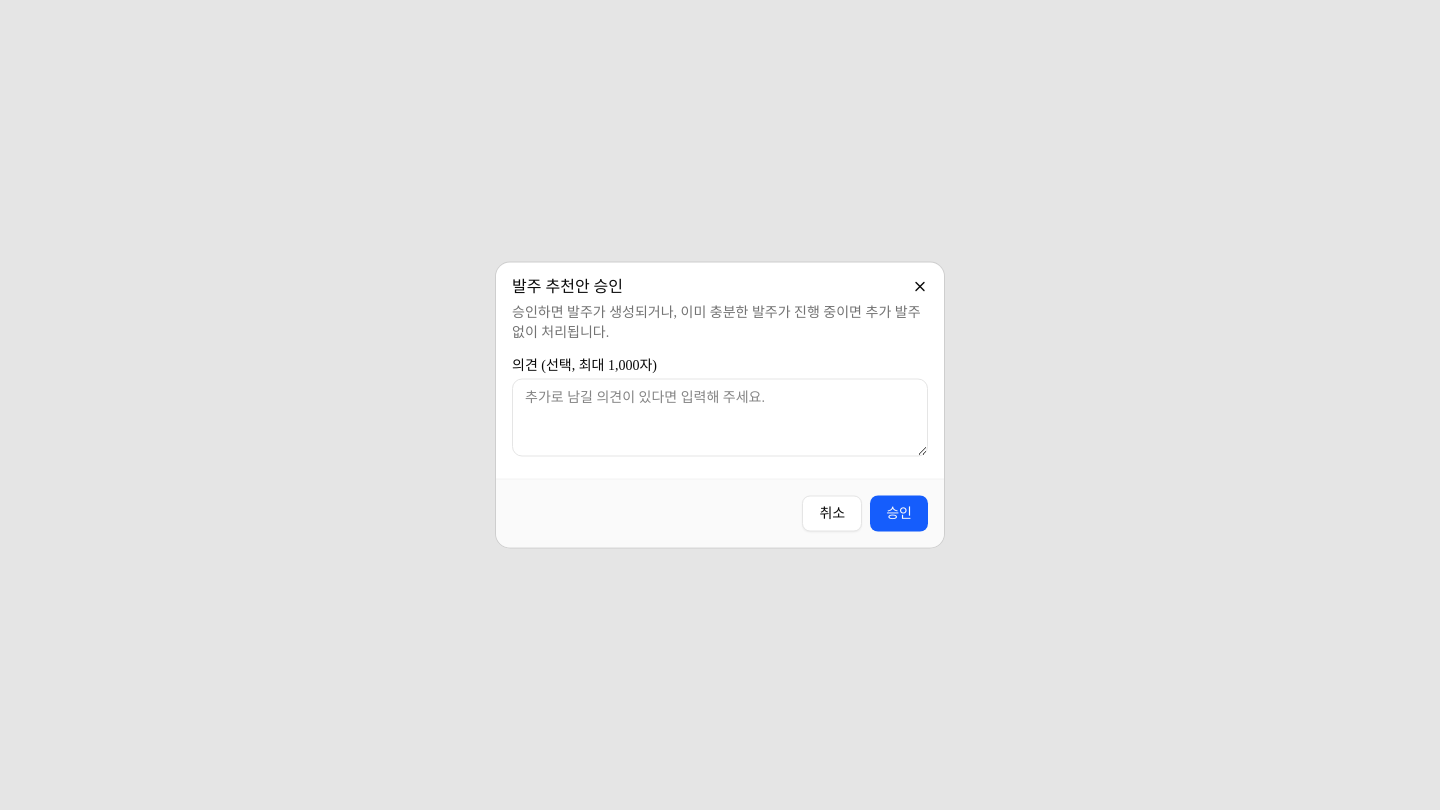
Test case: RestockDecisionConfirmDialog › 실패하면 인라인 에러만 표시하고 결과 안내 화면으로 전환되지 않는다
Click the button "승인".
click(899, 514)  # box [870,496,928,532]
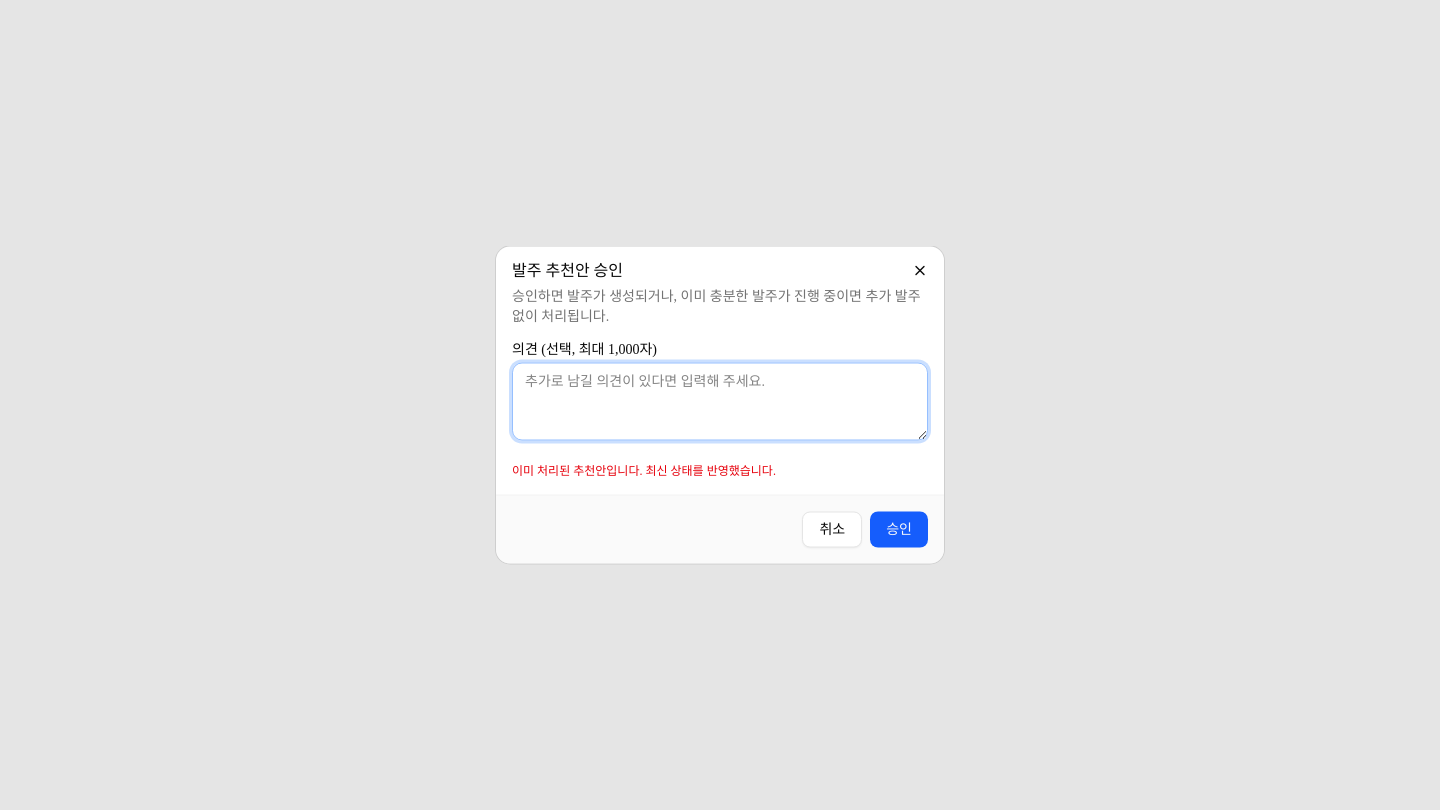
Expected: the button "취소" is shown, [802,512,862,548]
Expected: the text "이미 처리된 추천안입니다. 최신 상태를 반영했습니다." is shown, [512,464,776,478]
